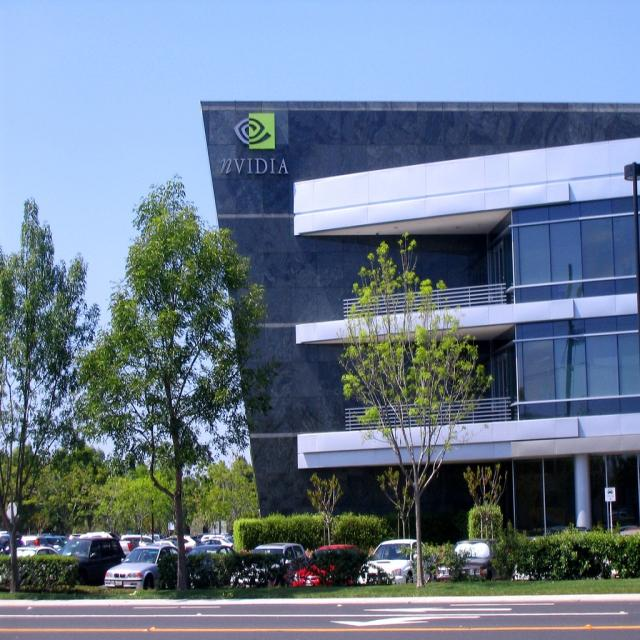nvidia: (234, 112, 277, 151)
